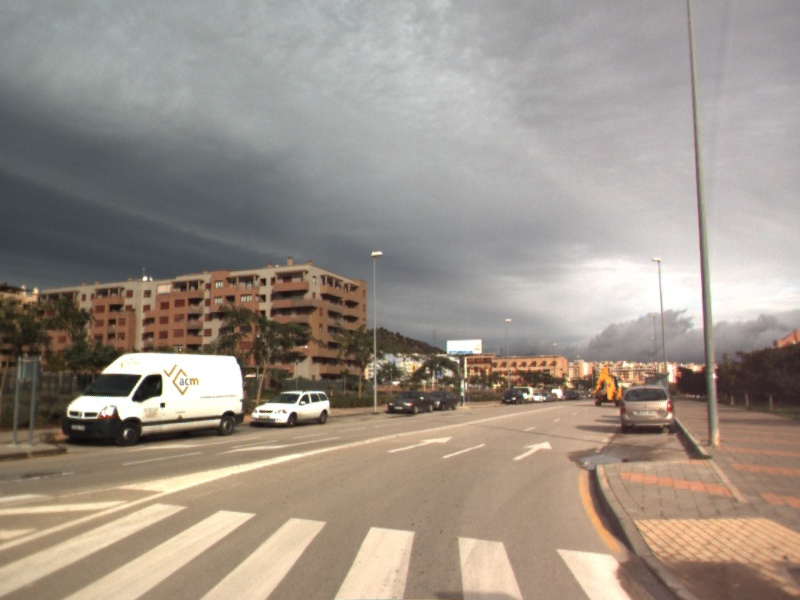STRAIGHT: (386, 435, 455, 454), (511, 439, 554, 462)
